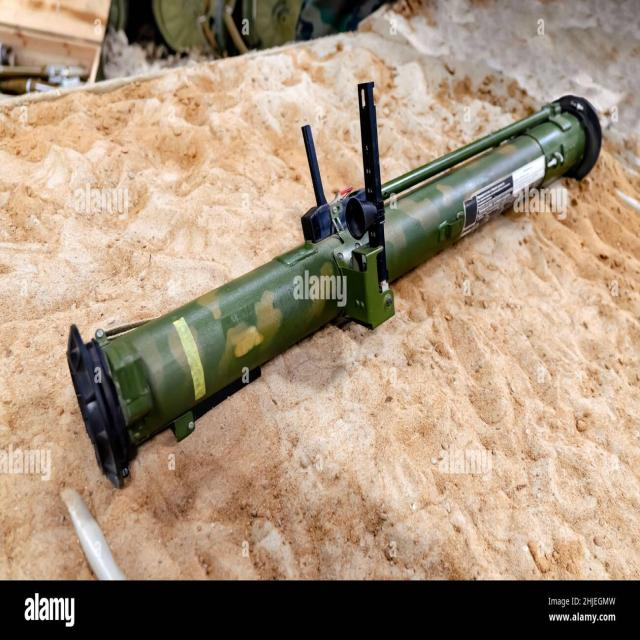bazooka: (62, 77, 608, 483)
